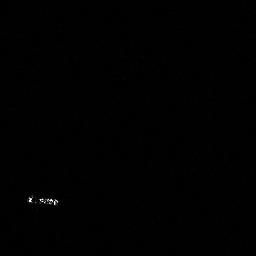ship: (27, 193, 59, 207)
